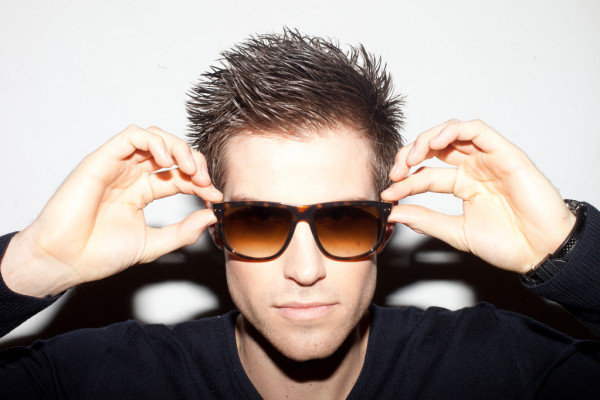glasses: (195, 186, 405, 267)
